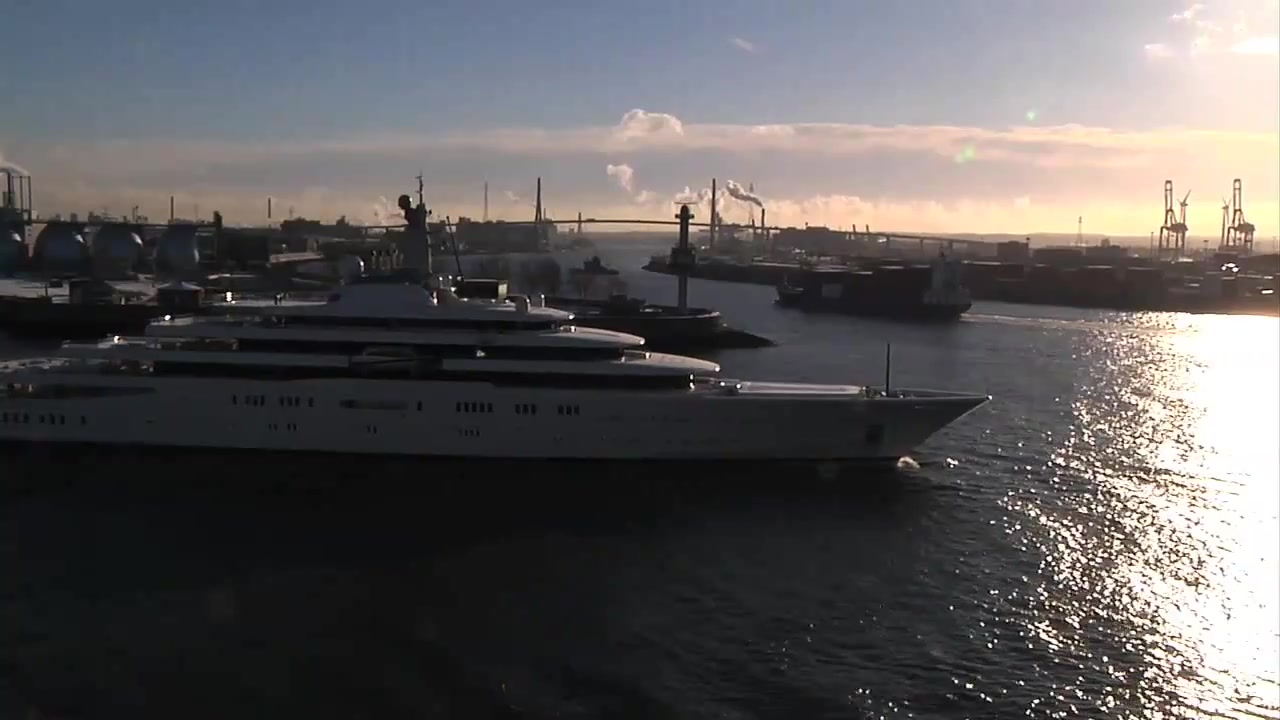boat: (1, 174, 1000, 476)
